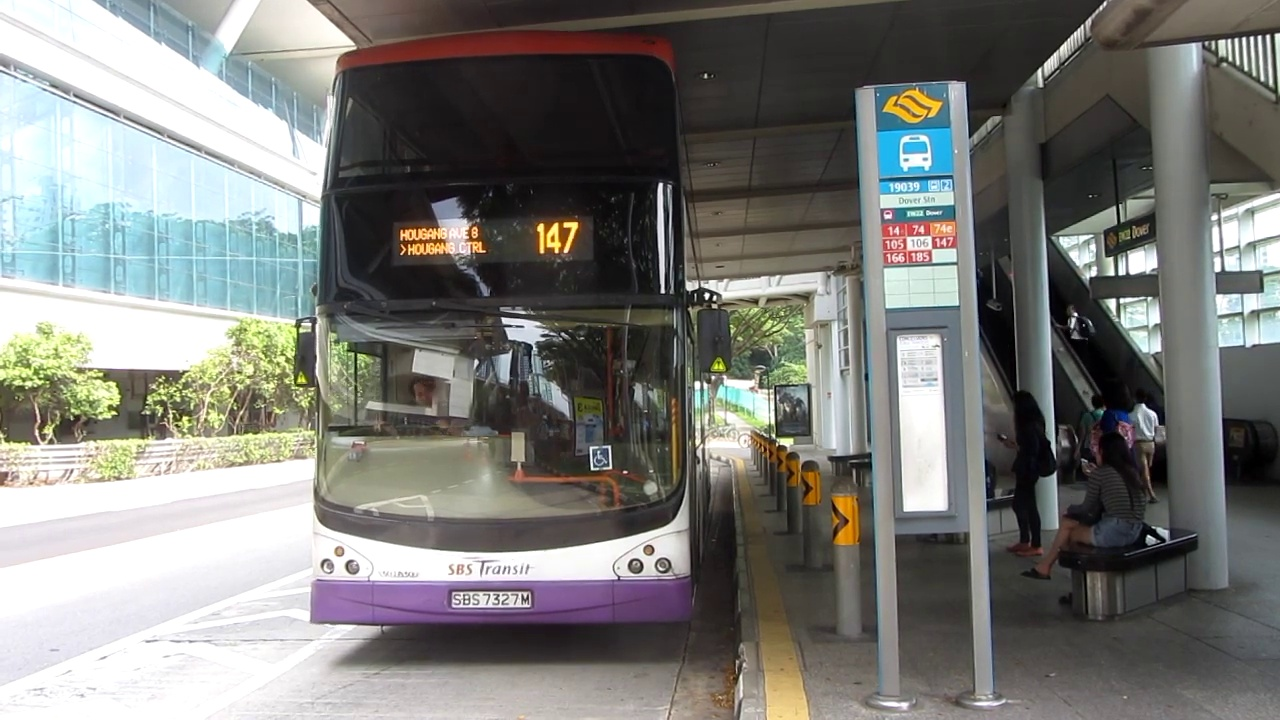bus panel: (389, 214, 597, 268)
